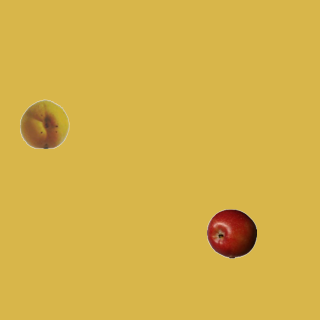Apple Braeburn: (206, 208, 256, 258)
Peach 2: (19, 98, 69, 148)
